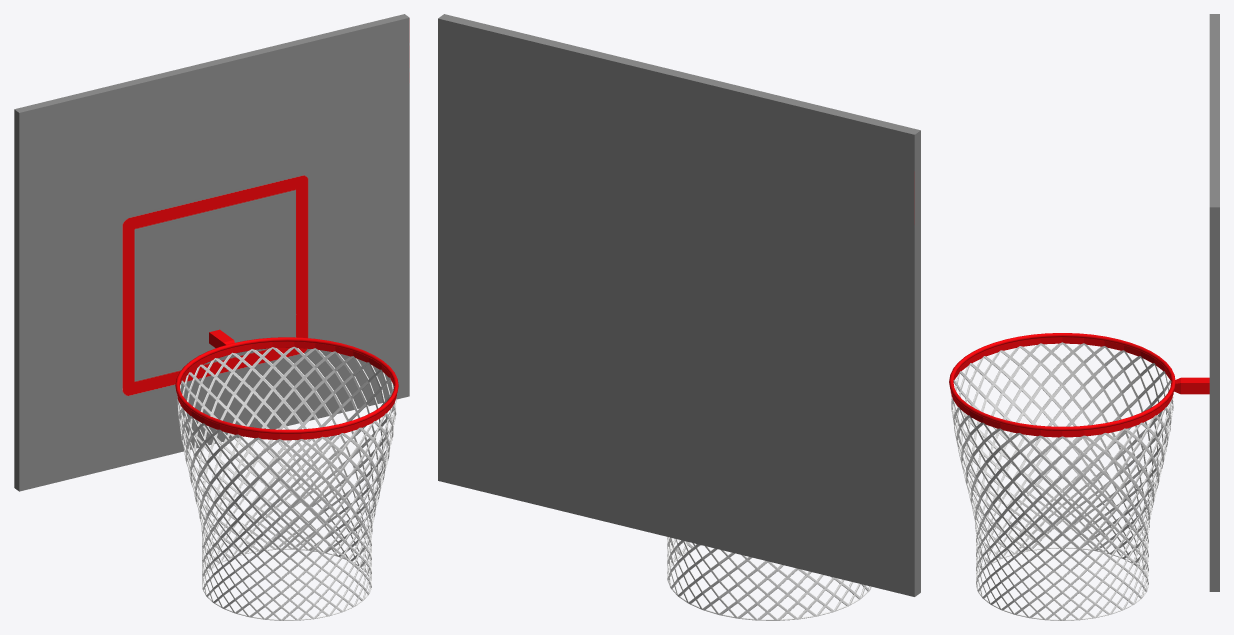
Rendered from basketball_hoop.glb.
3 views of the same model, side by side, from view 1: azimuth 30°, elevation 25°; view 2: azimuth 150°, elevation 25°; view 3: azimuth 270°, elevation 25° (orthographic). The views are drawn at different scales.
Parts seen in each view (by area): view 1: Cube, Cylinder.001, Cylinder; view 2: Cube, Cylinder.001; view 3: Cylinder.001, Cube, Cylinder.
Part boxes in pixels (<box>): Cube: <box>14,14,409,491</box>; Cylinder.001: <box>177,346,396,620</box>; Cylinder: <box>175,337,398,440</box>; Cube: <box>438,14,920,596</box>; Cylinder.001: <box>667,537,871,620</box>; Cylinder.001: <box>950,342,1173,620</box>; Cube: <box>1174,14,1219,591</box>; Cylinder: <box>949,333,1175,437</box>.
Size of the model in its own units: 4.09 by 4.67 by 2.42.
Materials: 3 (3 with a texture image).
